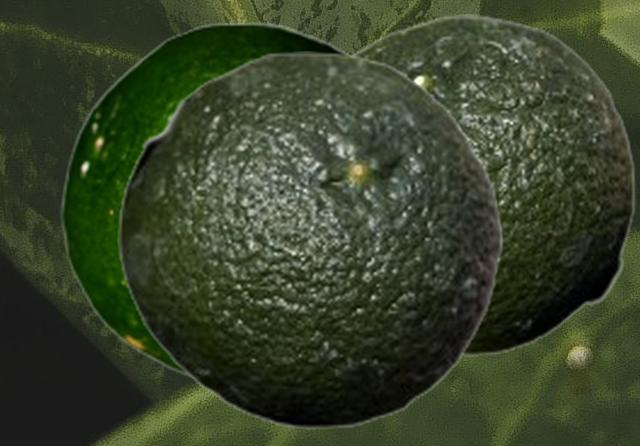calamansi: (117, 51, 503, 428), (60, 21, 353, 383), (351, 14, 635, 355)
